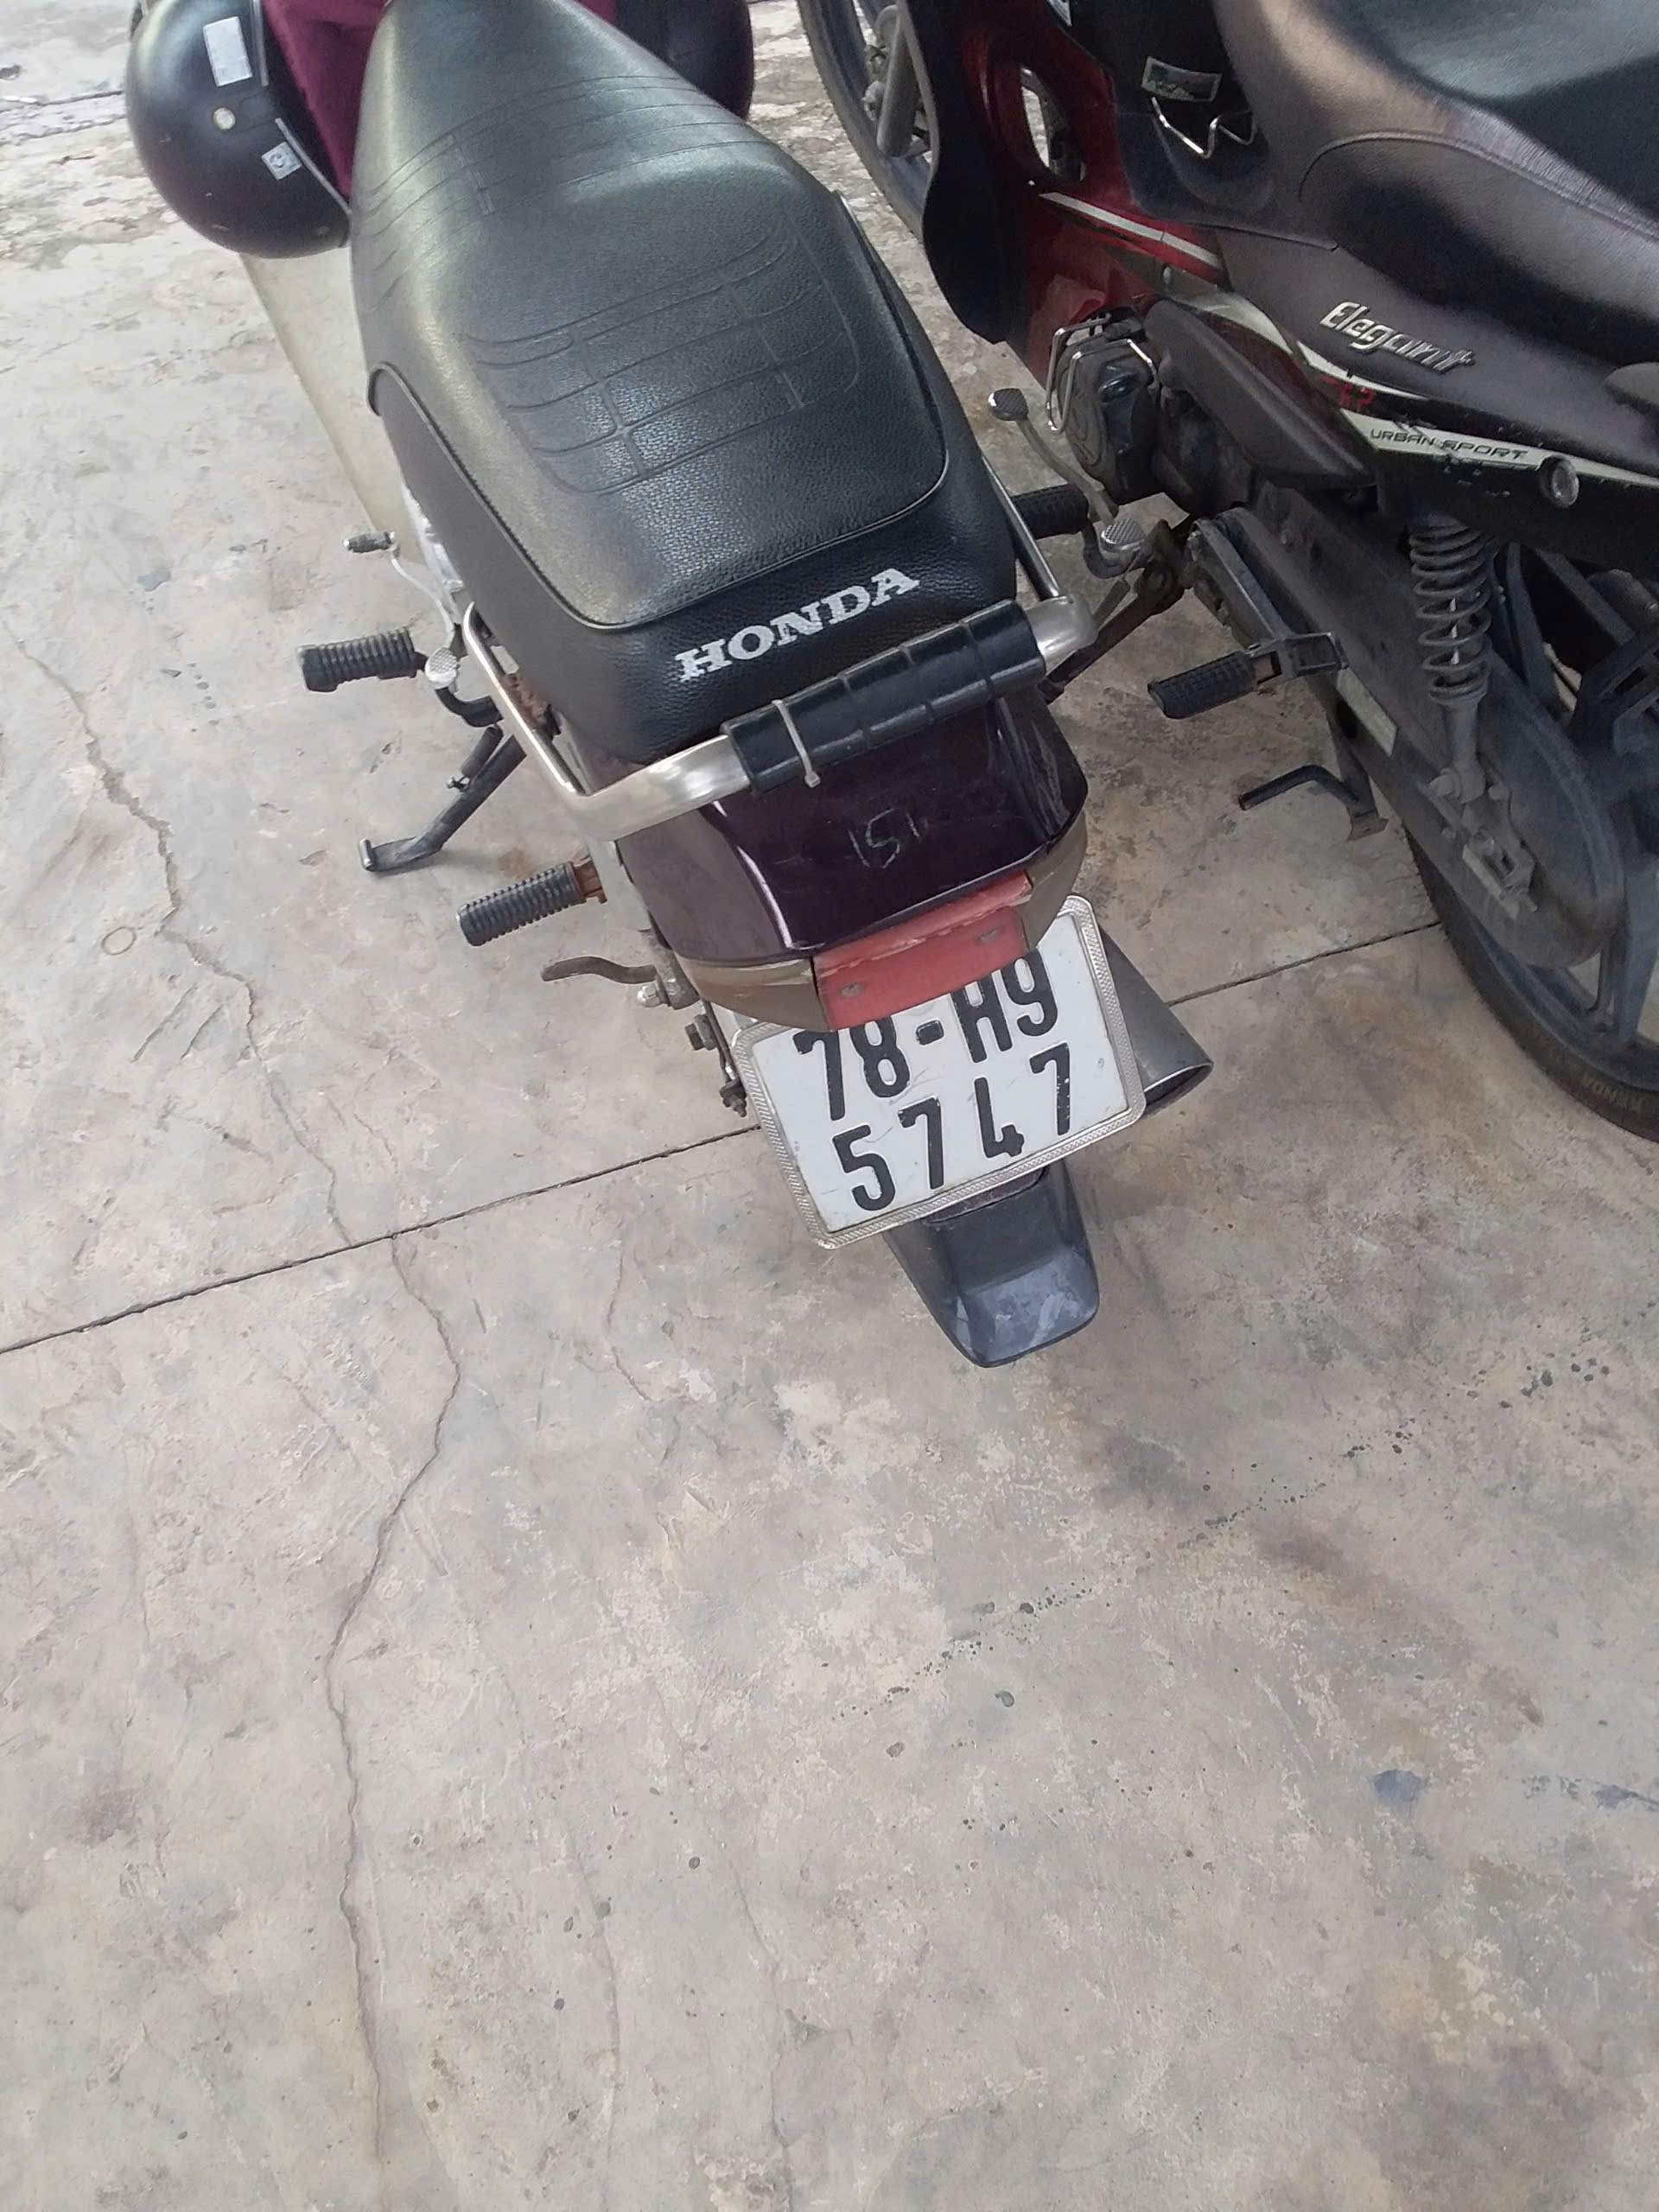bien_so: (744, 905, 1138, 1238)
